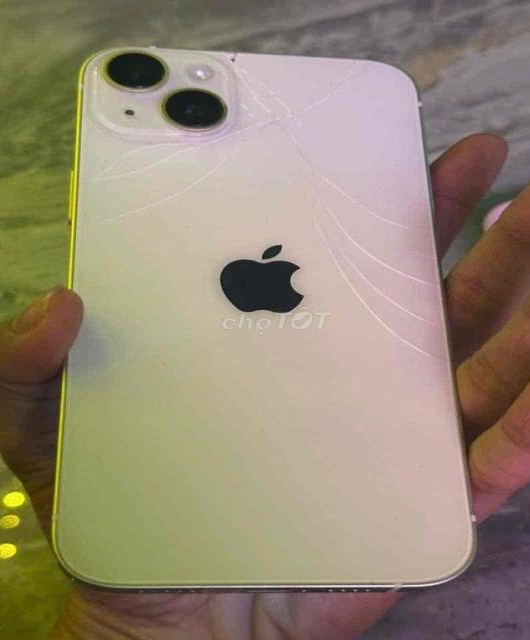physical_damage: (48, 44, 477, 596), (239, 63, 302, 133), (321, 230, 362, 276), (390, 331, 448, 363), (301, 188, 338, 229), (383, 262, 442, 287), (287, 132, 321, 169), (341, 276, 382, 306), (89, 151, 134, 176), (337, 60, 375, 84), (305, 86, 342, 110), (400, 304, 436, 324), (387, 220, 433, 232), (318, 171, 343, 192), (367, 307, 389, 328), (168, 143, 199, 157), (139, 156, 175, 168), (344, 191, 363, 213), (234, 136, 260, 152), (363, 207, 389, 221), (199, 132, 232, 143), (211, 156, 235, 170), (135, 141, 162, 153), (363, 248, 382, 264), (195, 172, 217, 185), (173, 186, 199, 196), (385, 293, 398, 307), (137, 203, 158, 211), (116, 213, 139, 219), (158, 195, 175, 203), (93, 219, 113, 225)
scratch: (225, 50, 237, 63)
